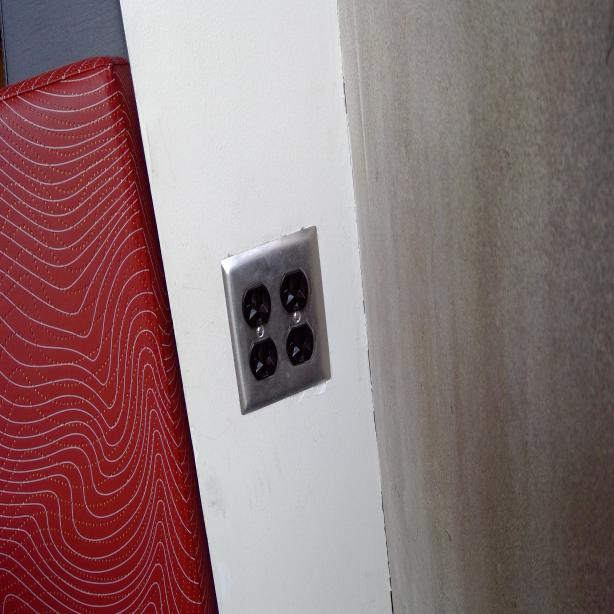typeb: (286, 324, 311, 364), (282, 271, 306, 309), (244, 288, 268, 325), (252, 341, 274, 379)
